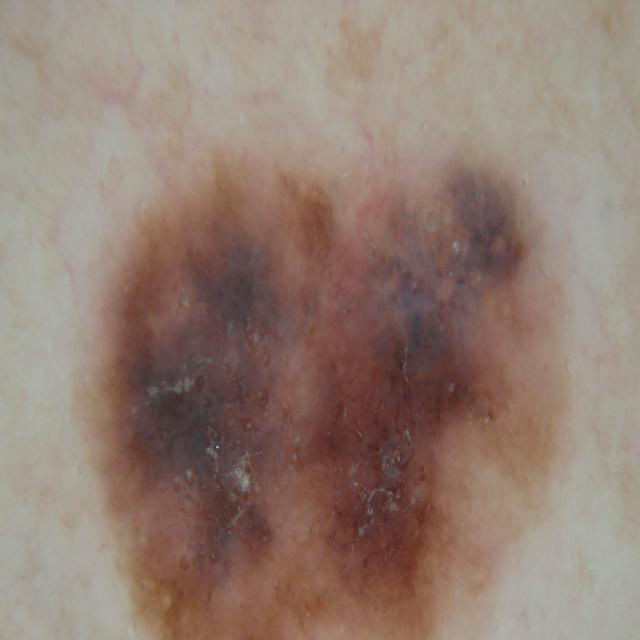Melanoma: (65, 126, 566, 640)
